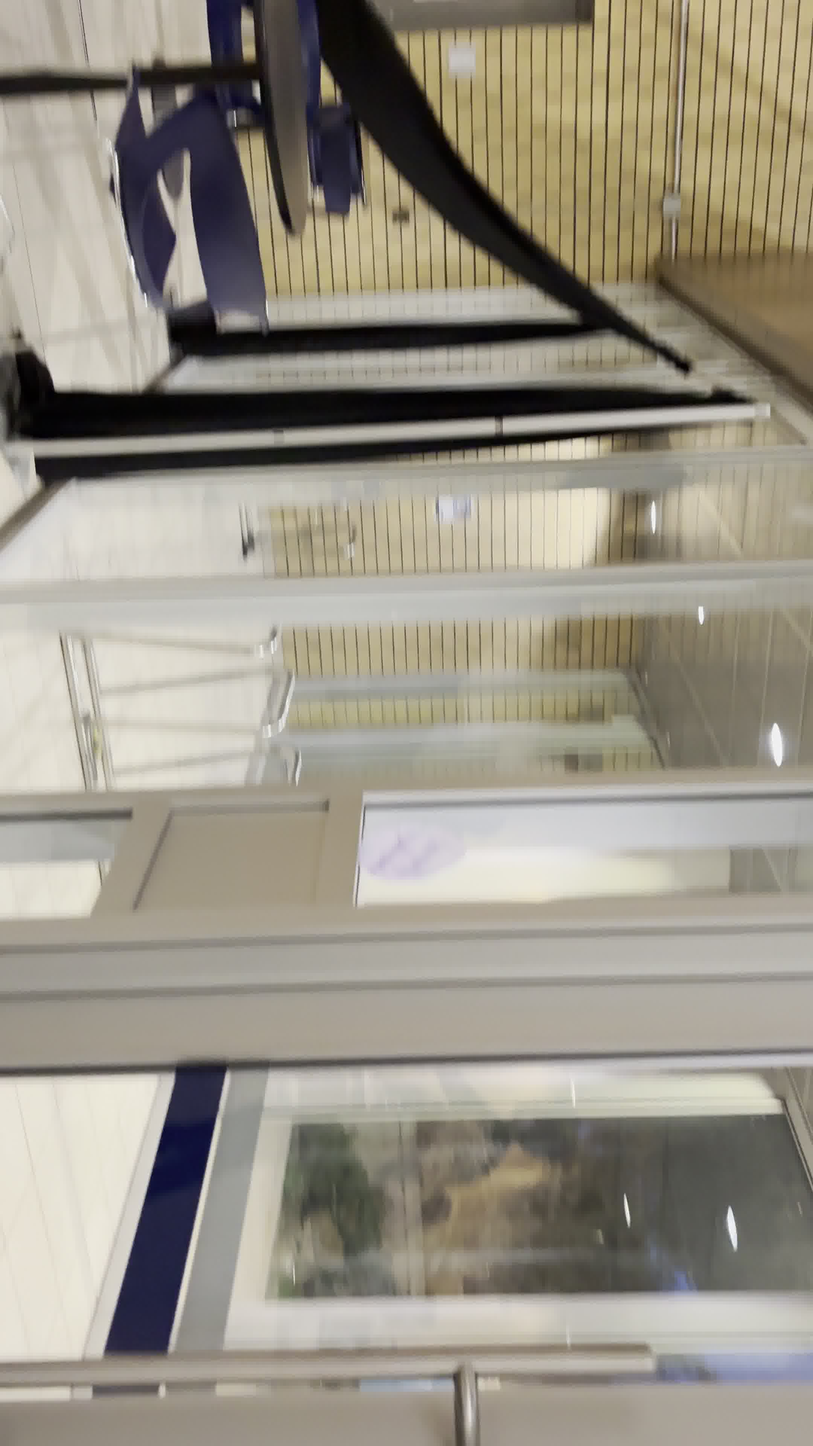Target: (355, 815, 470, 883)
